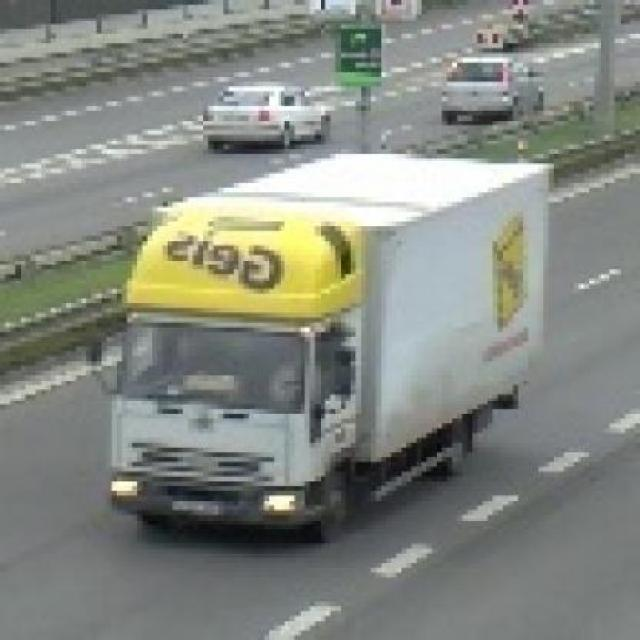truck: (82, 145, 545, 540)
